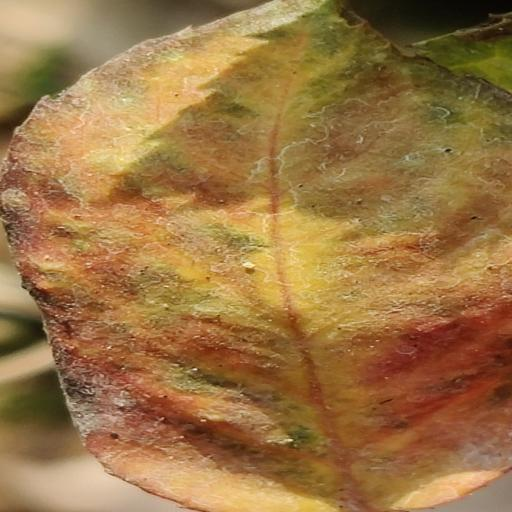red_mite: (2, 0, 512, 512)
